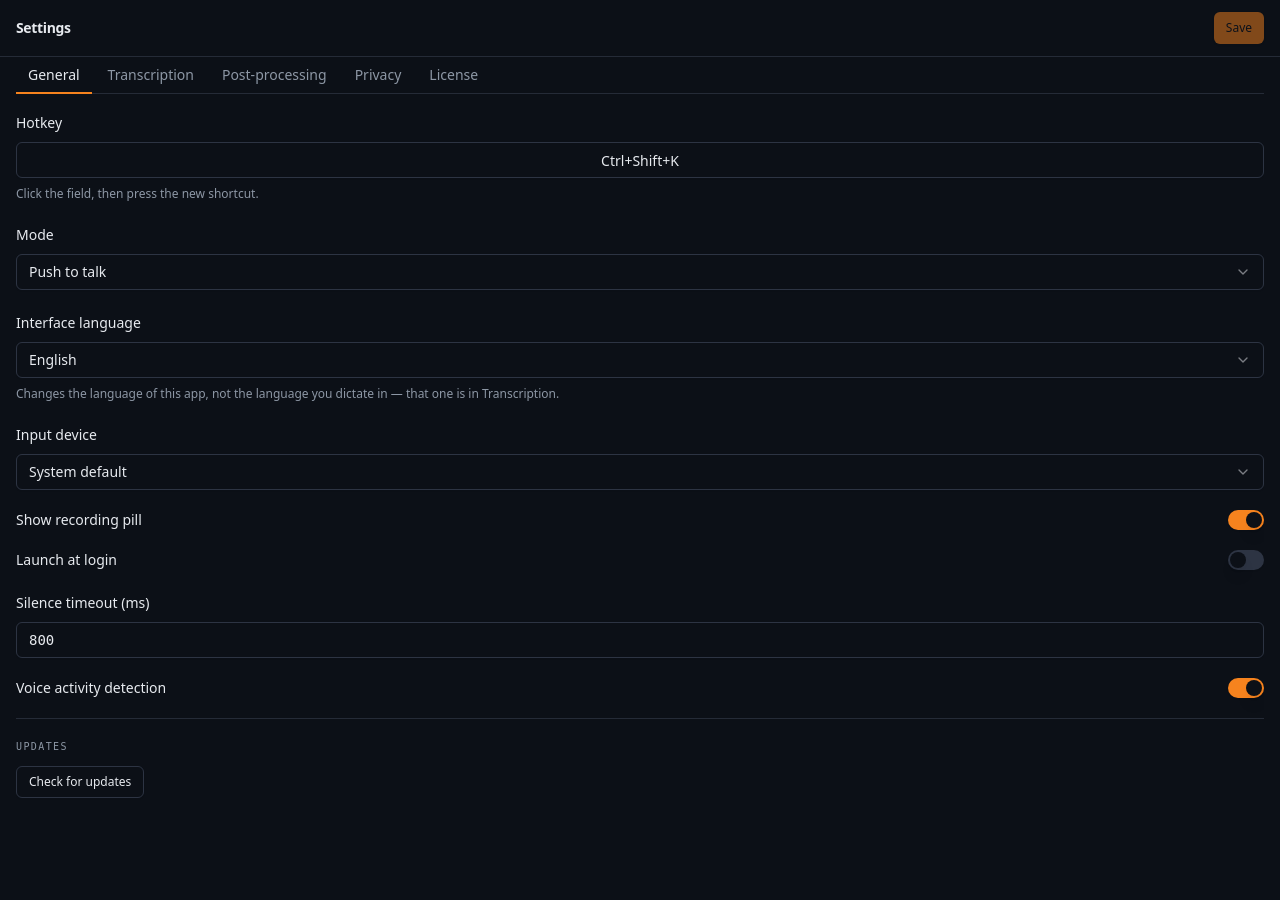
Settings (mock mode) › reports the update check result from the General tab
Check: the field labelled "Hotkey" is shown, box [16, 142, 1264, 178]
Click the button "Check for updates": (80, 782) [16, 766, 144, 798]
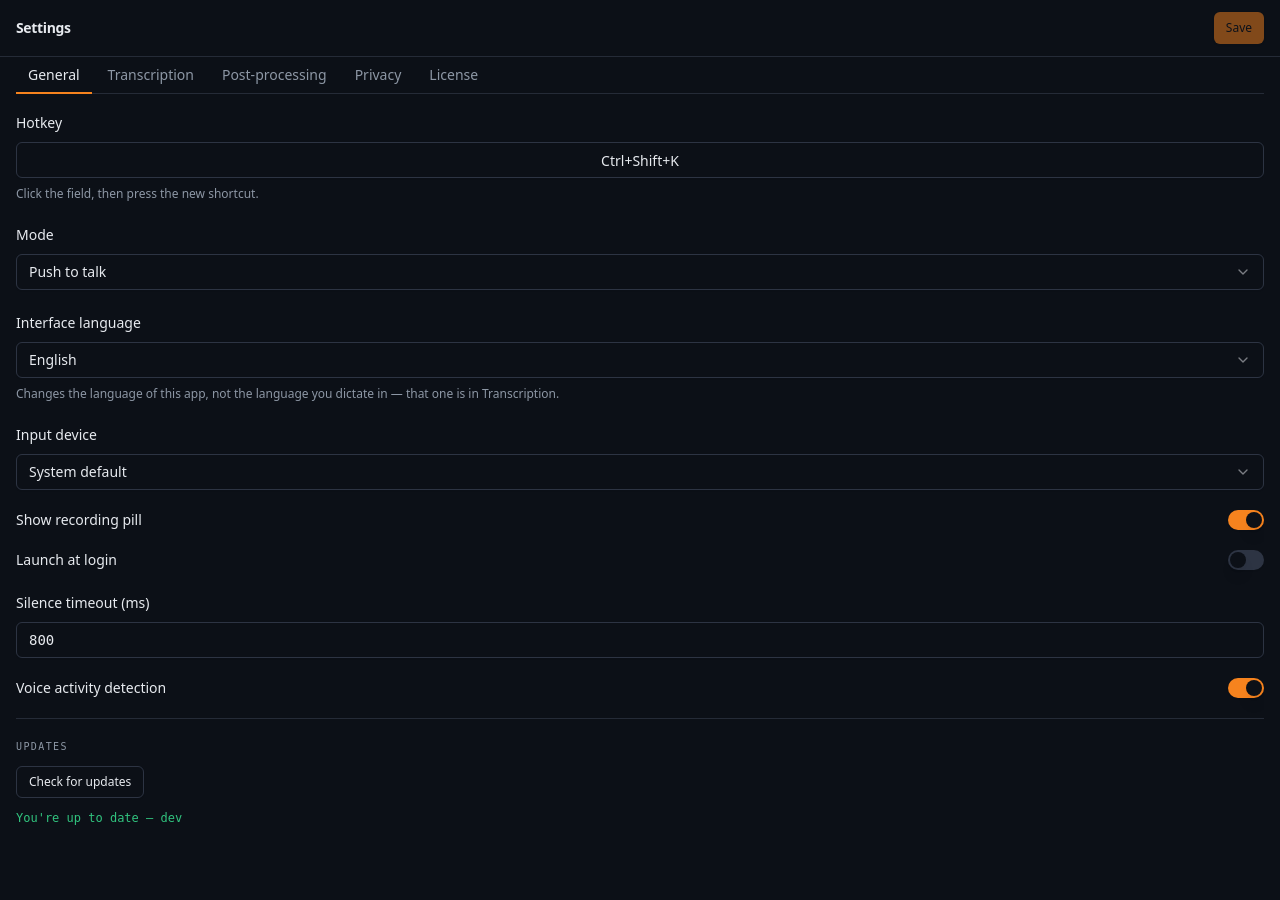
Check: the text "You're up to date — dev" is shown, box [16, 811, 182, 825]
